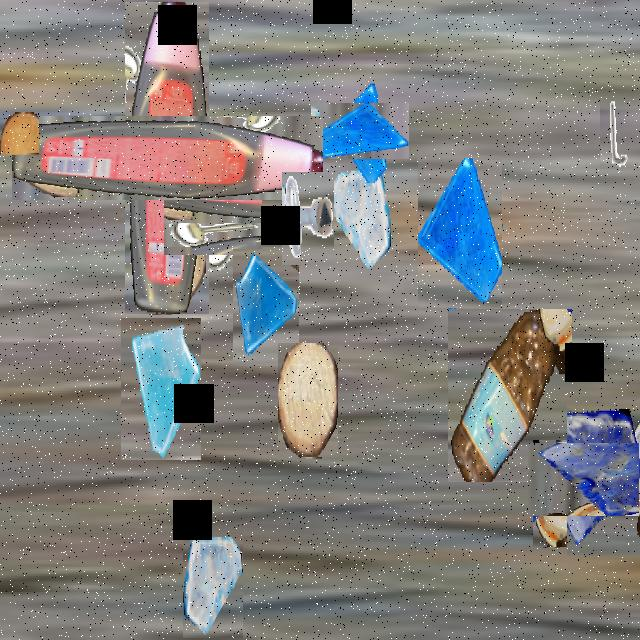glass: (418, 158, 502, 308), (121, 318, 201, 461), (547, 423, 640, 536), (233, 249, 299, 366), (330, 165, 390, 272), (183, 532, 243, 638), (321, 93, 399, 170)
metal: (174, 189, 252, 266), (282, 172, 334, 265), (600, 98, 640, 169)
plastic: (68, 59, 266, 257), (448, 310, 572, 483), (533, 441, 583, 547)
wood: (278, 343, 338, 457), (128, 16, 202, 73), (0, 112, 39, 155)
